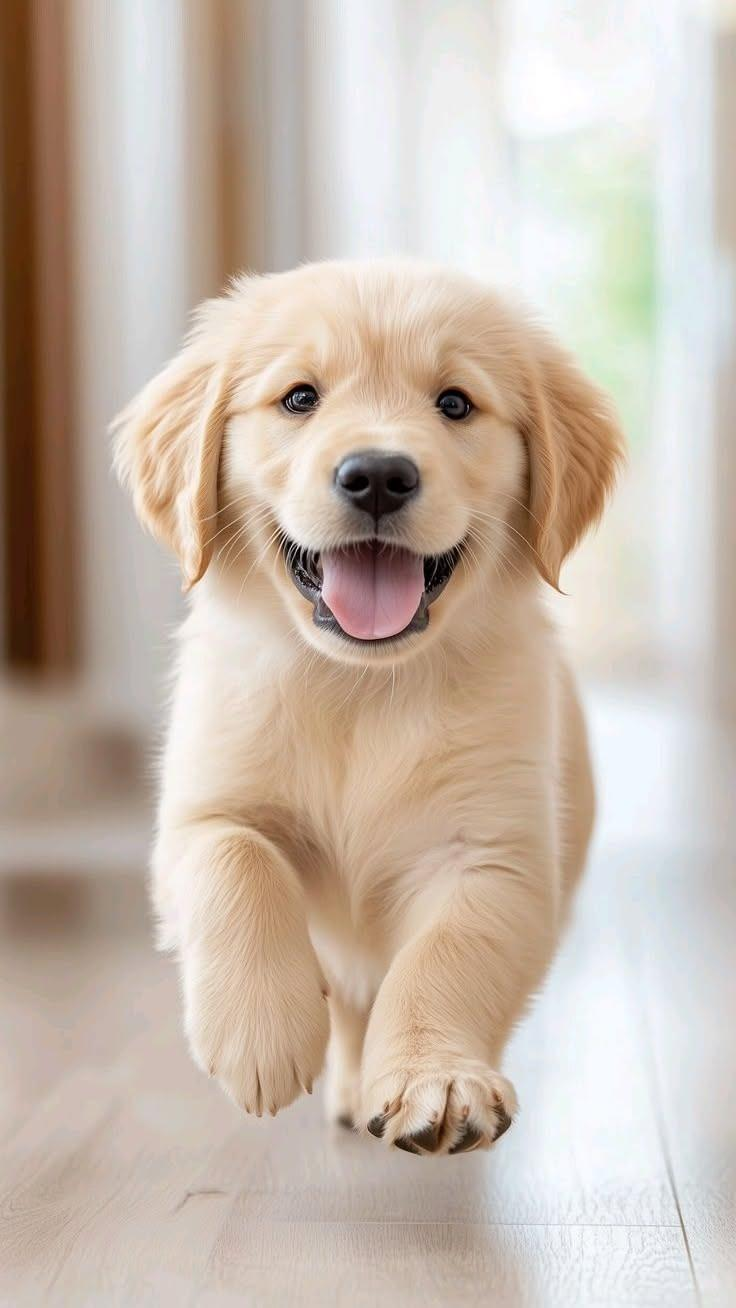puppy-dog: (107, 258, 631, 1160)
